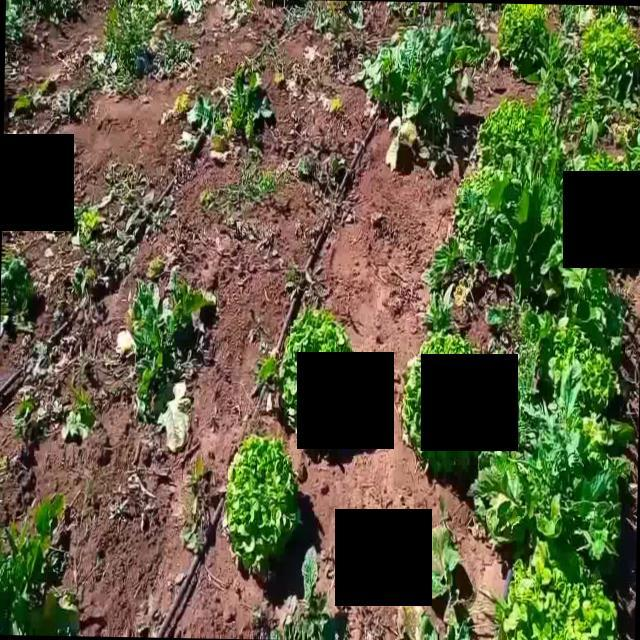Lettuce: (500, 545, 619, 640), (519, 304, 628, 407), (406, 324, 476, 481), (230, 435, 304, 578), (283, 307, 346, 422), (477, 95, 562, 160), (577, 4, 640, 85), (496, 0, 552, 70), (498, 3, 552, 69)
